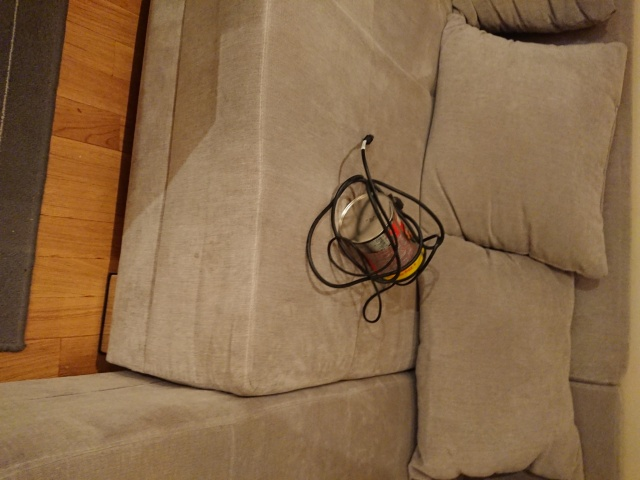Nescafe Classic 225g: (335, 189, 429, 288)
